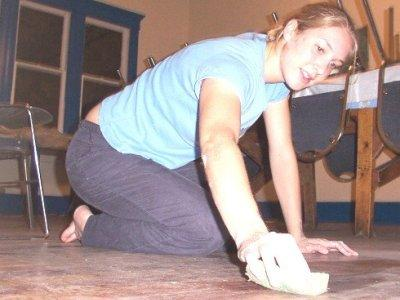person: (59, 2, 359, 291)
